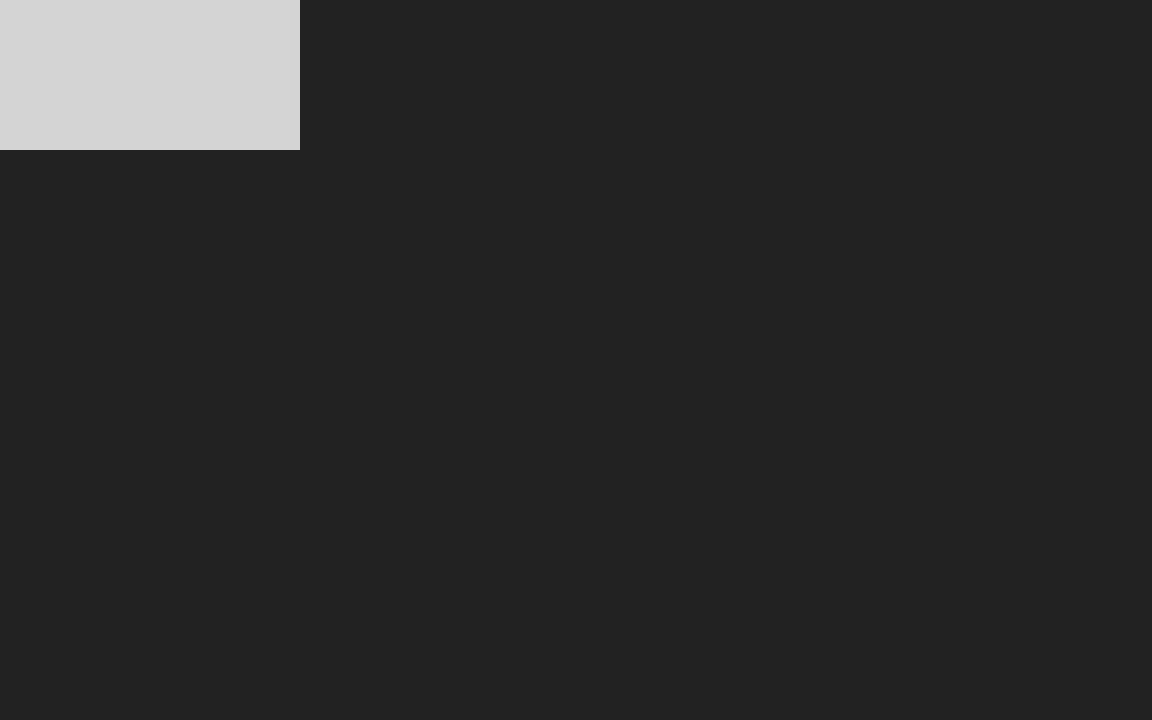
Test: custom playback controls › shows controls on the first tap without pausing playback
The width and height of the screenshot is (1152, 720).
Later steps or results of the test are not shown.
Click the button named "Показать управление". click: (576, 360)
box: x1=0 y1=0 x2=1151 y2=719
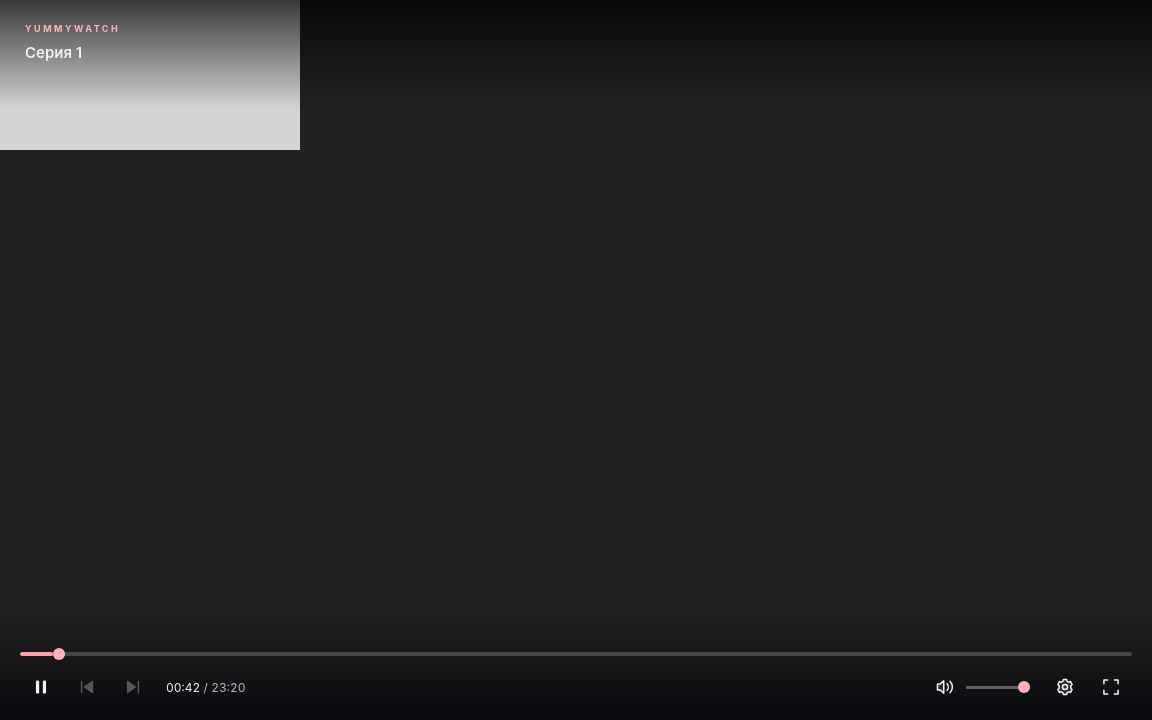
expect the element showing "YUMMYWATCH Серия 1 00:42 / 23:20" has class "is-visible": met
